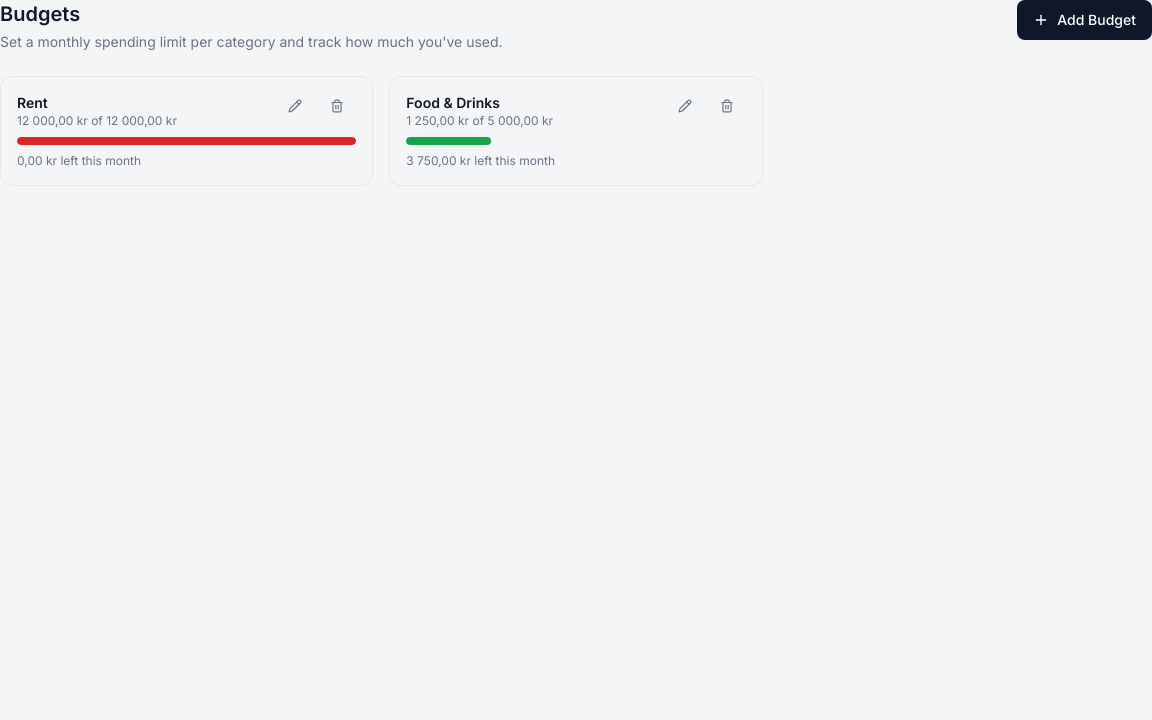
BudgetsPage › opens the create modal from the header button
Click the button "Add Budget" at (1085, 20), box [1017,0,1151,40]
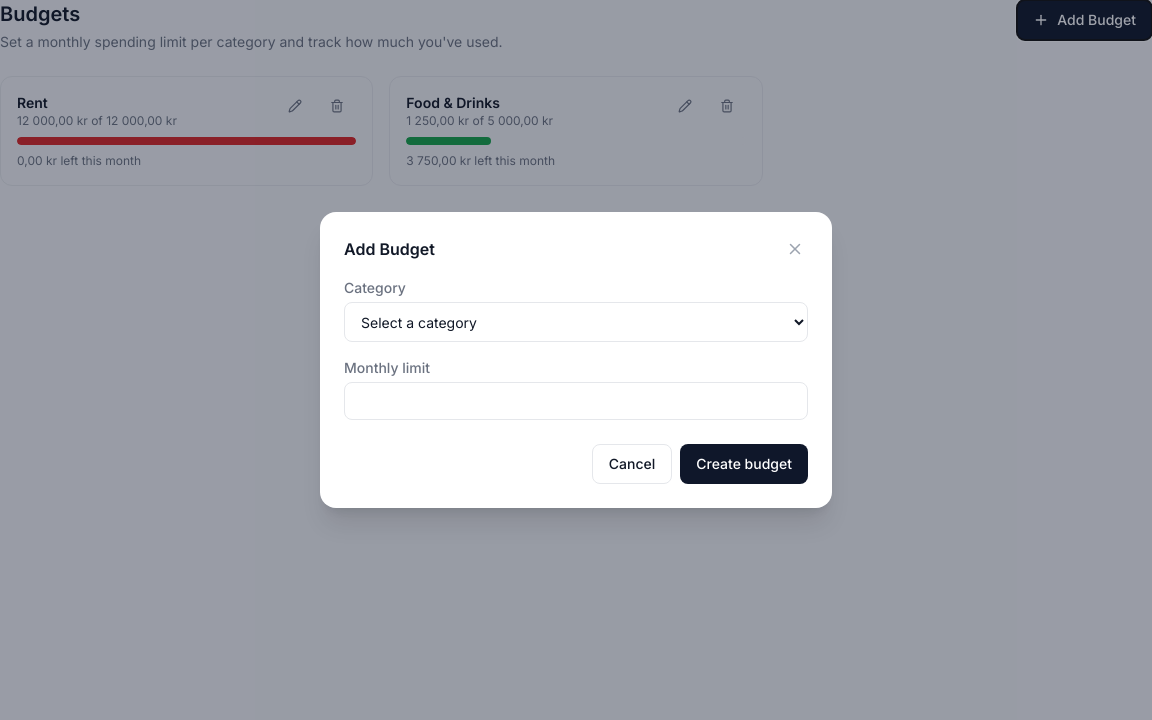
Now the heading "Add Budget" is shown, box [344,237,435,261]
